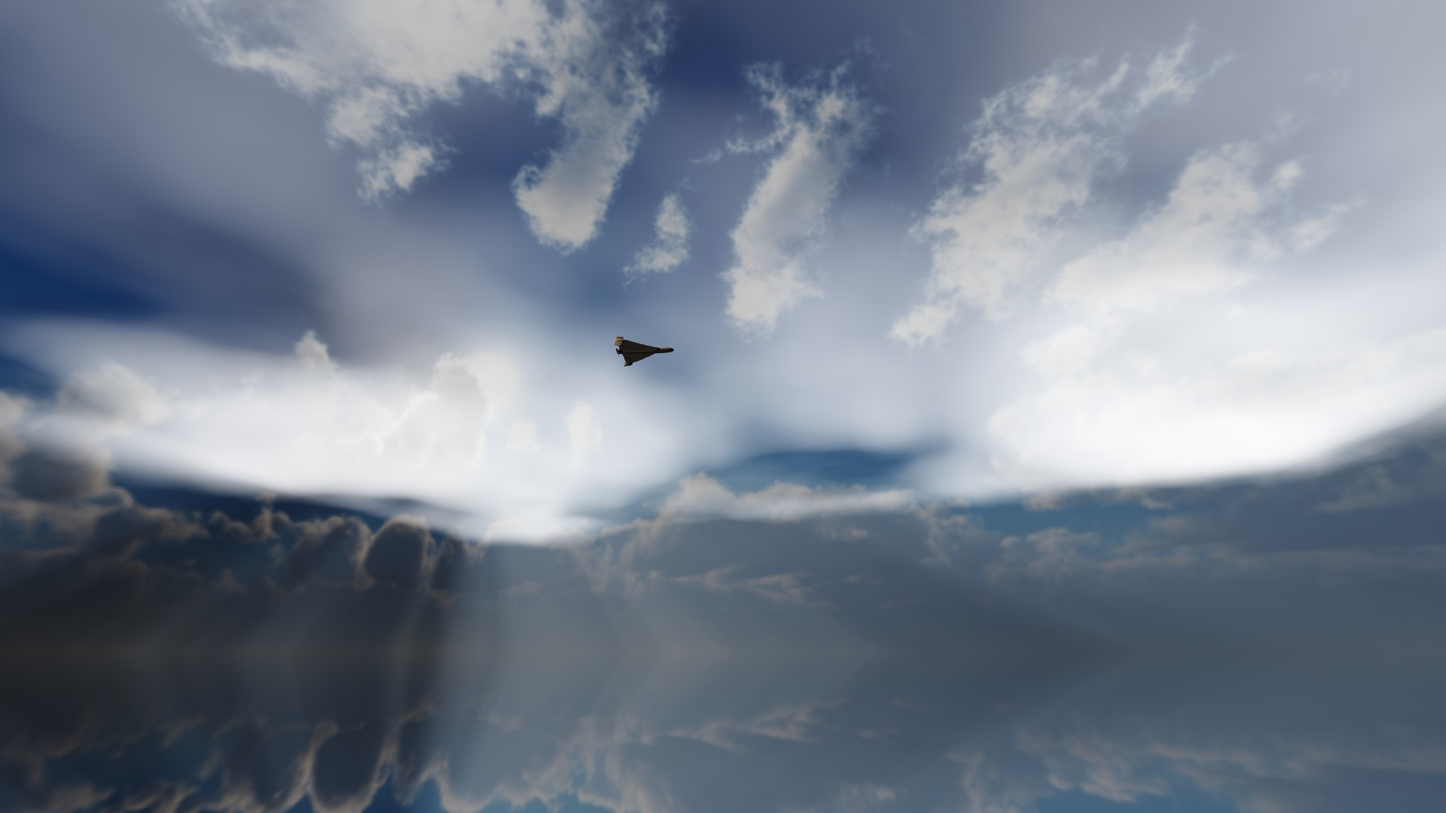shahed: (614, 336, 674, 366)
